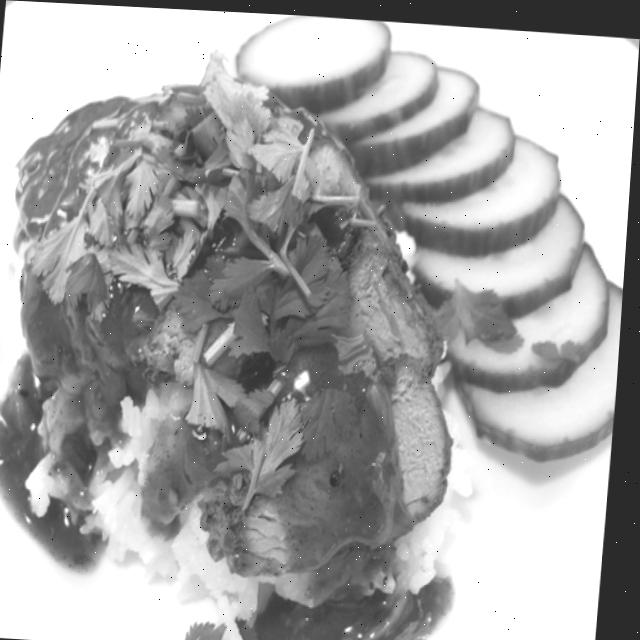猪肉菜式: (0, 8, 626, 640)
